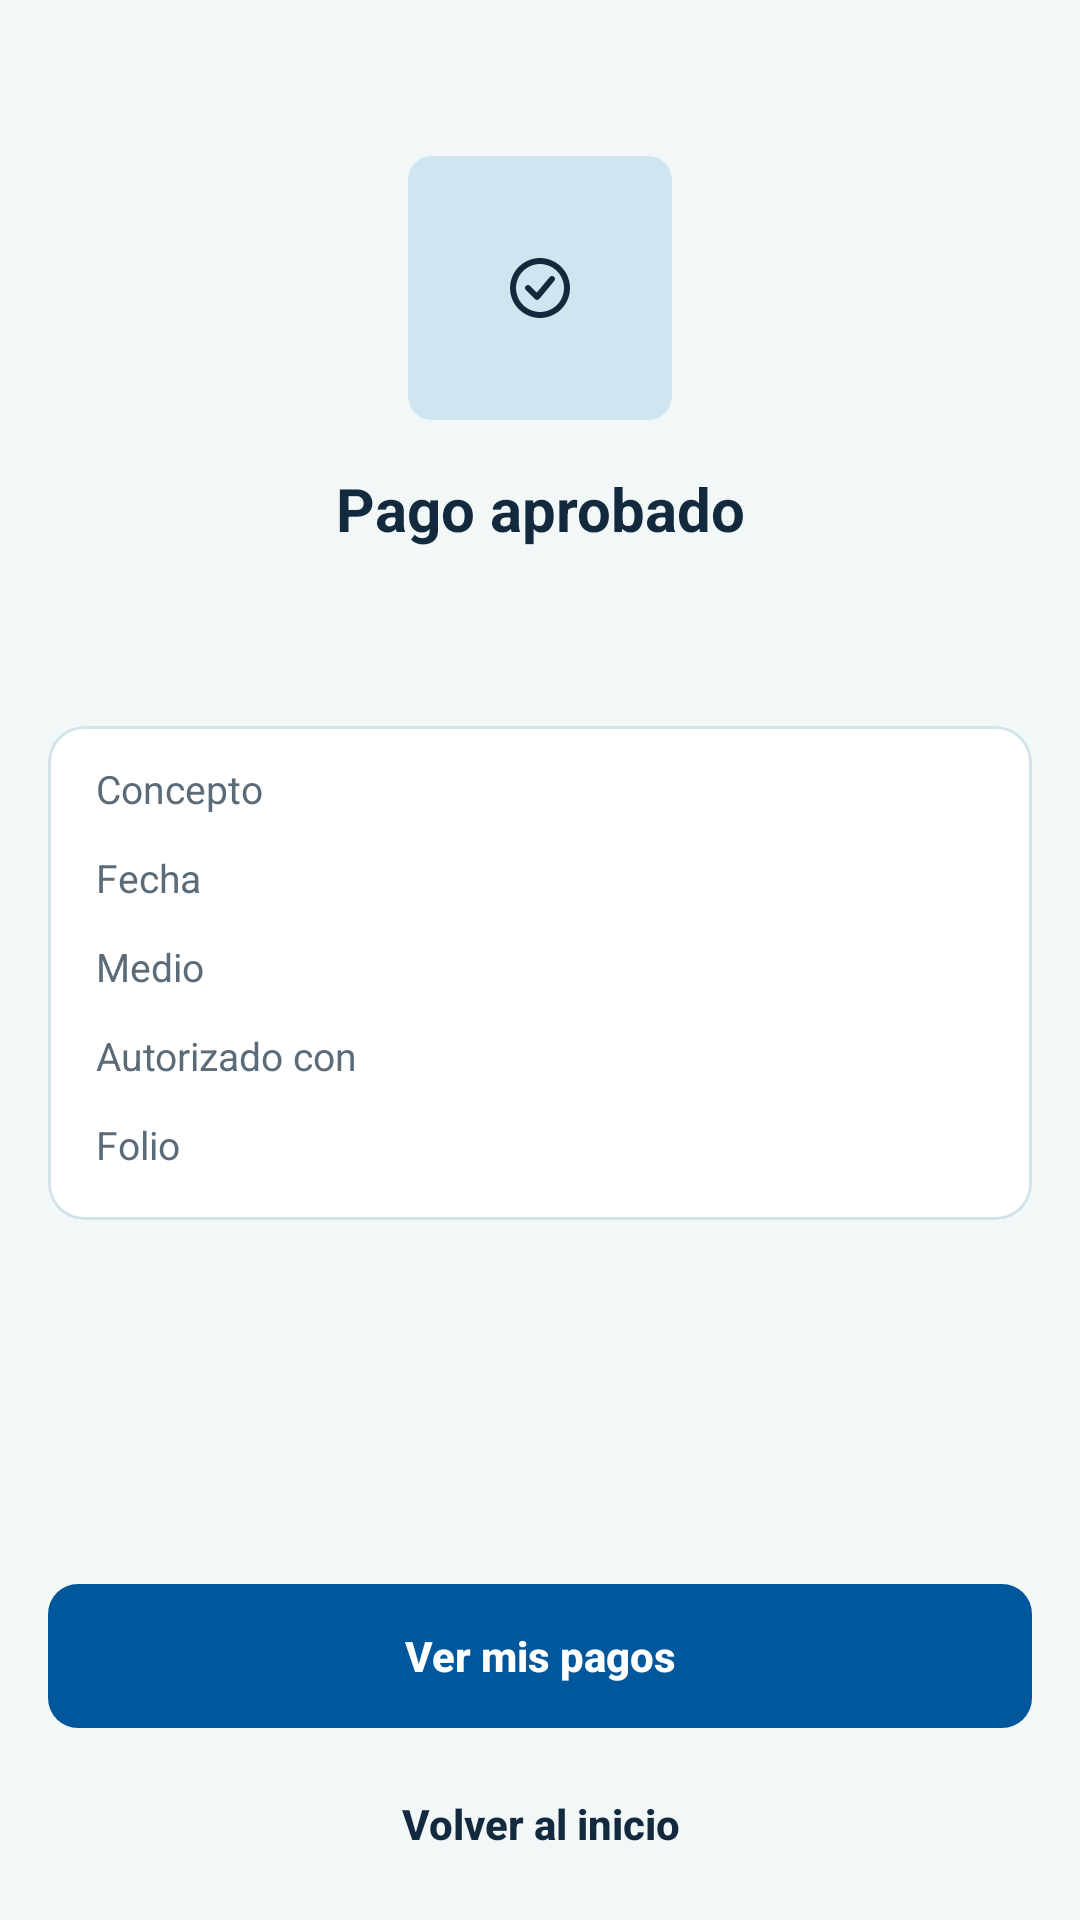

Named icons in this screenshot (1080 × 1920) and their centers, point (x, y):
exito: point (540, 288)
